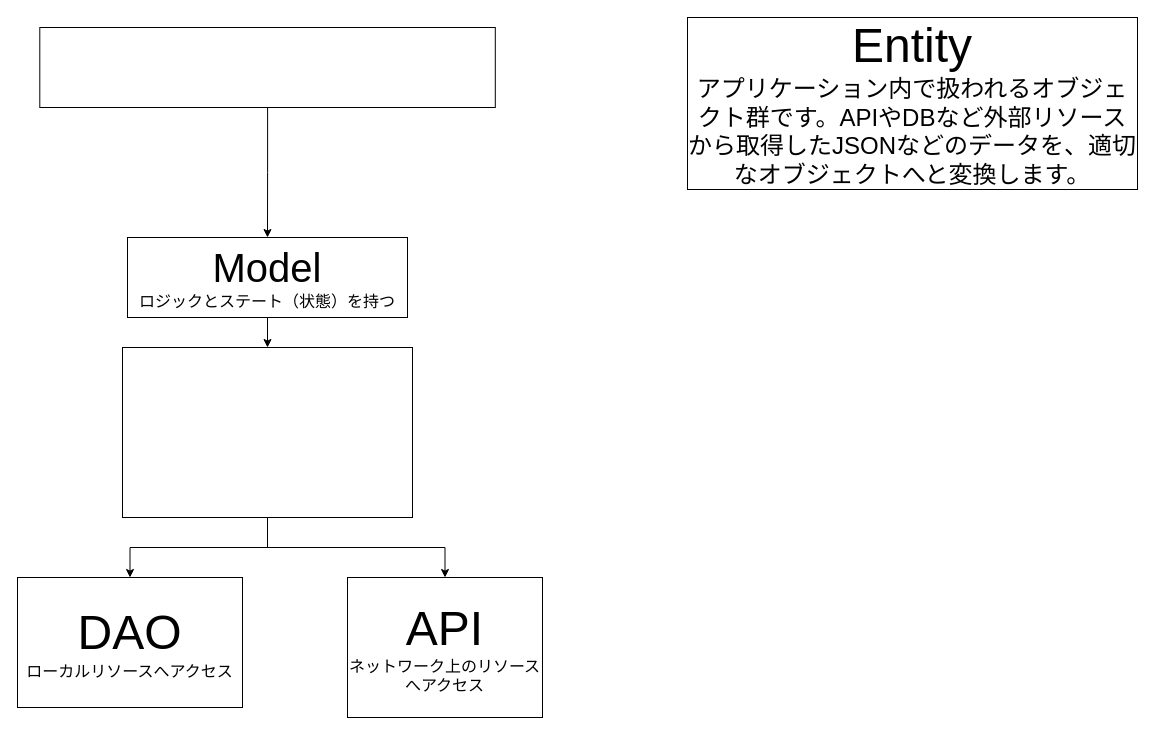
The diagram is 1155 pixels wide and 735 high, and some of its shapes have lost their labels. Here are the shapes that lost their labels. From the top down, the centre of each, then its label:
the point at 267,67: UI view。見た目に関するファイル
the point at 267,432: Repository Modelが外部リソースとやりとりする、その接続点としてRepositoryをインターフェースとして扱う
